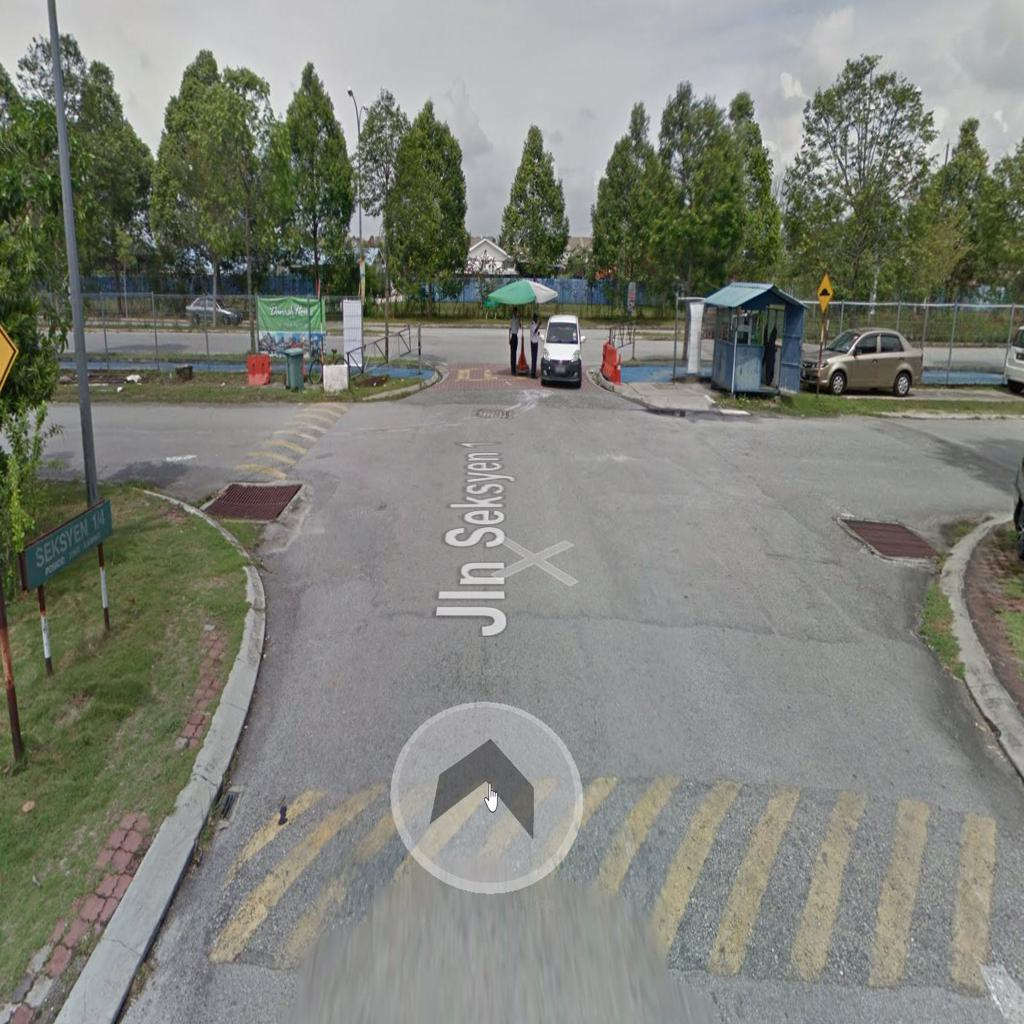Junction: (13, 368, 430, 622), (698, 382, 1018, 613)
